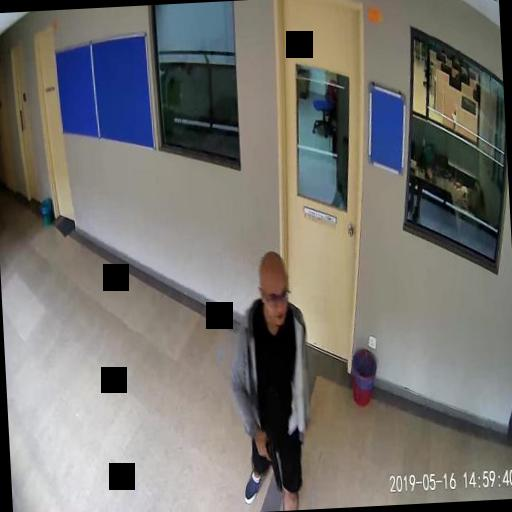Handgun: (256, 436, 280, 491)
